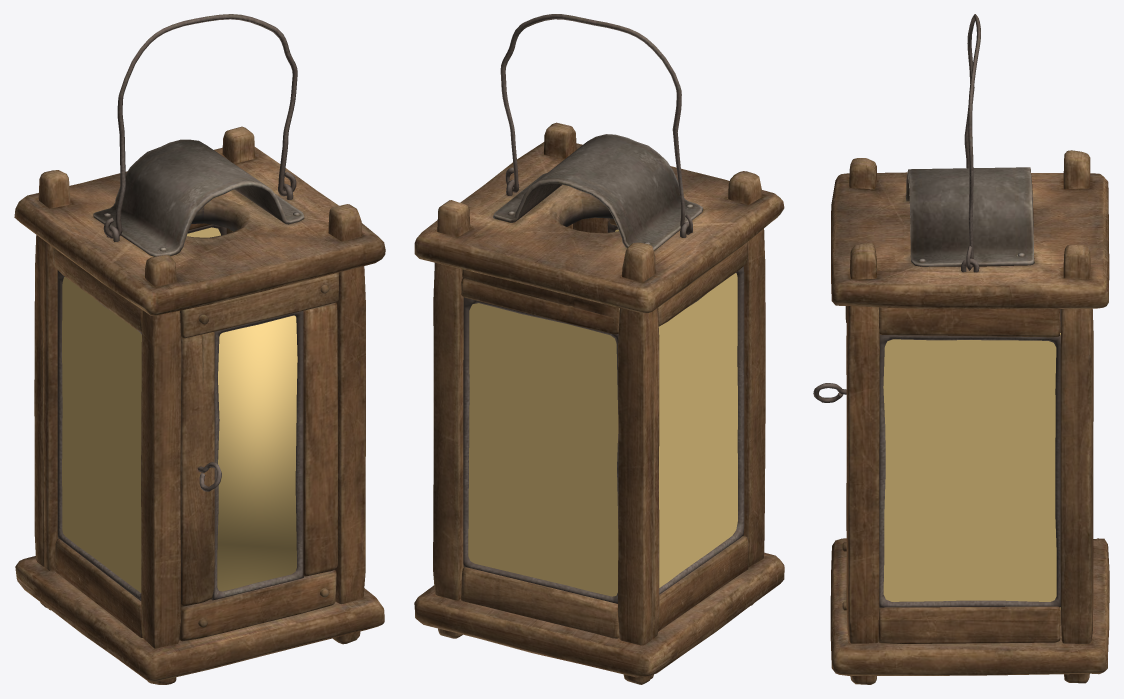
Rendered from lantern.obj.
3 views of the same model, side by side, from view 1: azimuth 30°, elevation 25°; view 2: azimuth 150°, elevation 25°; view 3: azimuth 270°, elevation 25° (orthographic).
Parts seen in each view (by area): view 1: lantern; view 2: lantern; view 3: lantern.
Part boxes in pixels (x1,y1,x2,y2): lantern: (14, 14, 385, 684); lantern: (414, 14, 784, 684); lantern: (813, 14, 1109, 684).
Size of the model in its own units: 0.221 by 0.5301 by 0.2347.
Materials: 2 (1 with a texture image).
